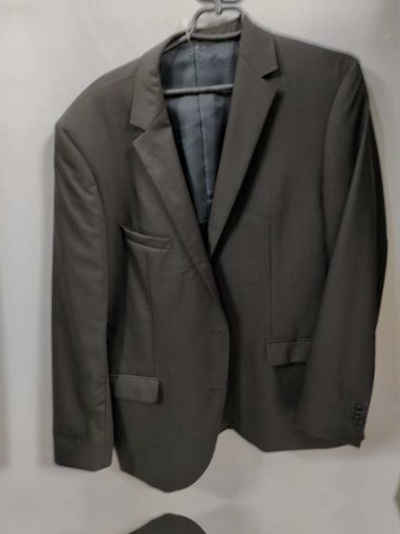Blazer: (28, 24, 390, 482), (0, 30, 12, 489), (36, 523, 399, 534), (0, 530, 21, 534)
